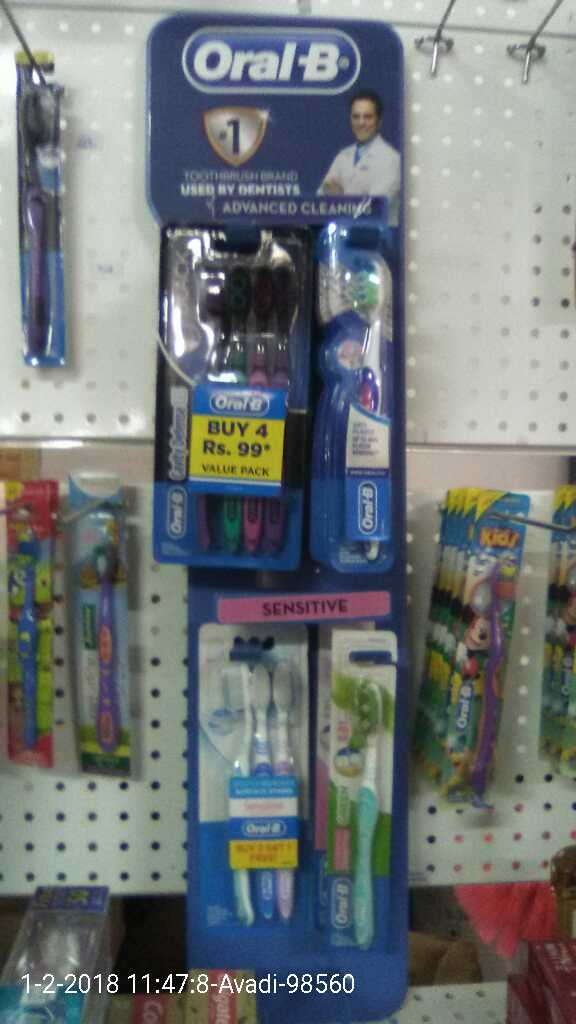oralb: (176, 245, 293, 552), (313, 246, 407, 570), (215, 661, 313, 936), (334, 654, 391, 967)
